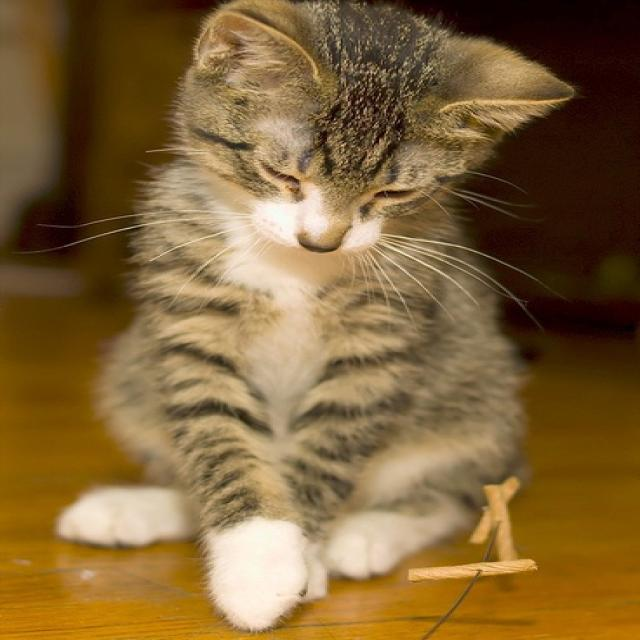cat: (48, 1, 582, 635)
